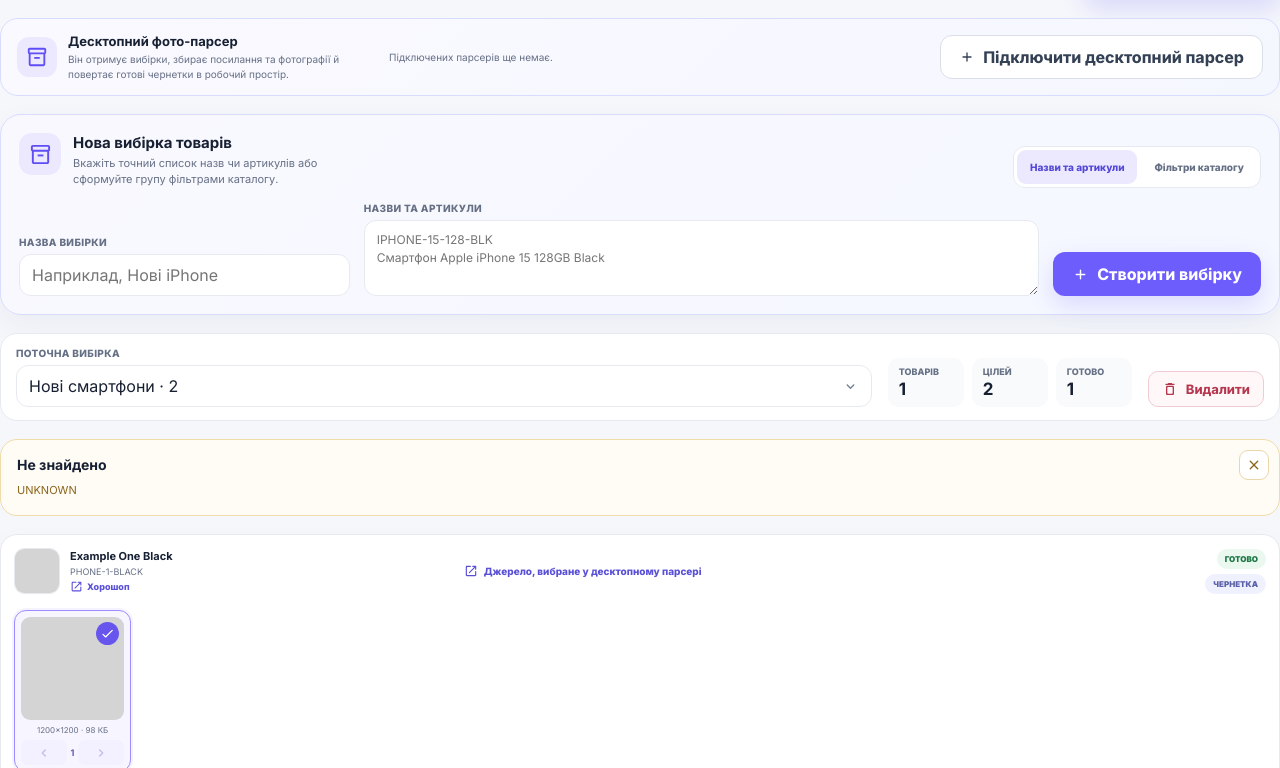
Scenario: HoroshopPhotoParserPage › allows dismissing unresolved matches without keeping the warning stuck in the interface
The width and height of the screenshot is (1280, 768).
Expected: the heading "Не знайдено" is shown, [17,456,106,473]
Click the button named "Сховати повідомлення про збіги" at coordinates (1254, 465), box [1239,450,1269,480]
(page scrolled)
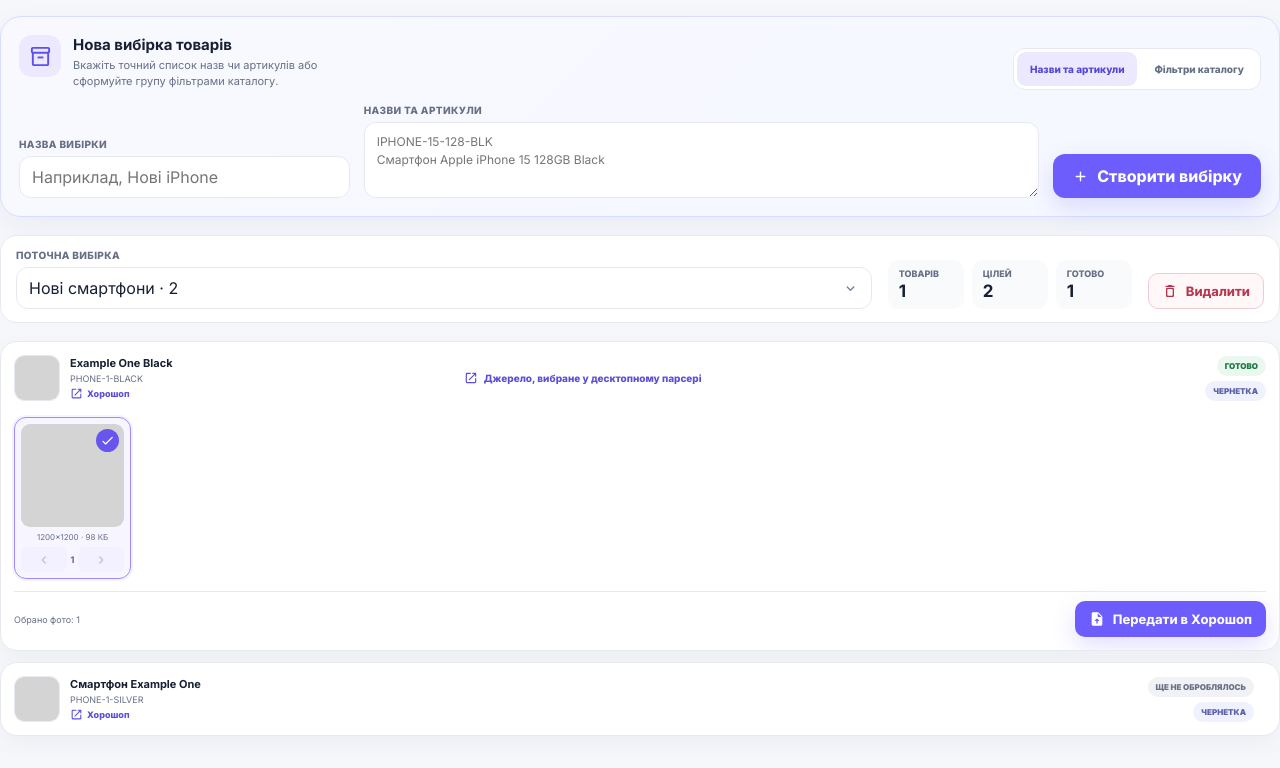
Expected: the text "Смартфон Example One" is shown, [70,677,201,691]
Expected: the heading "Не знайдено" is gone
